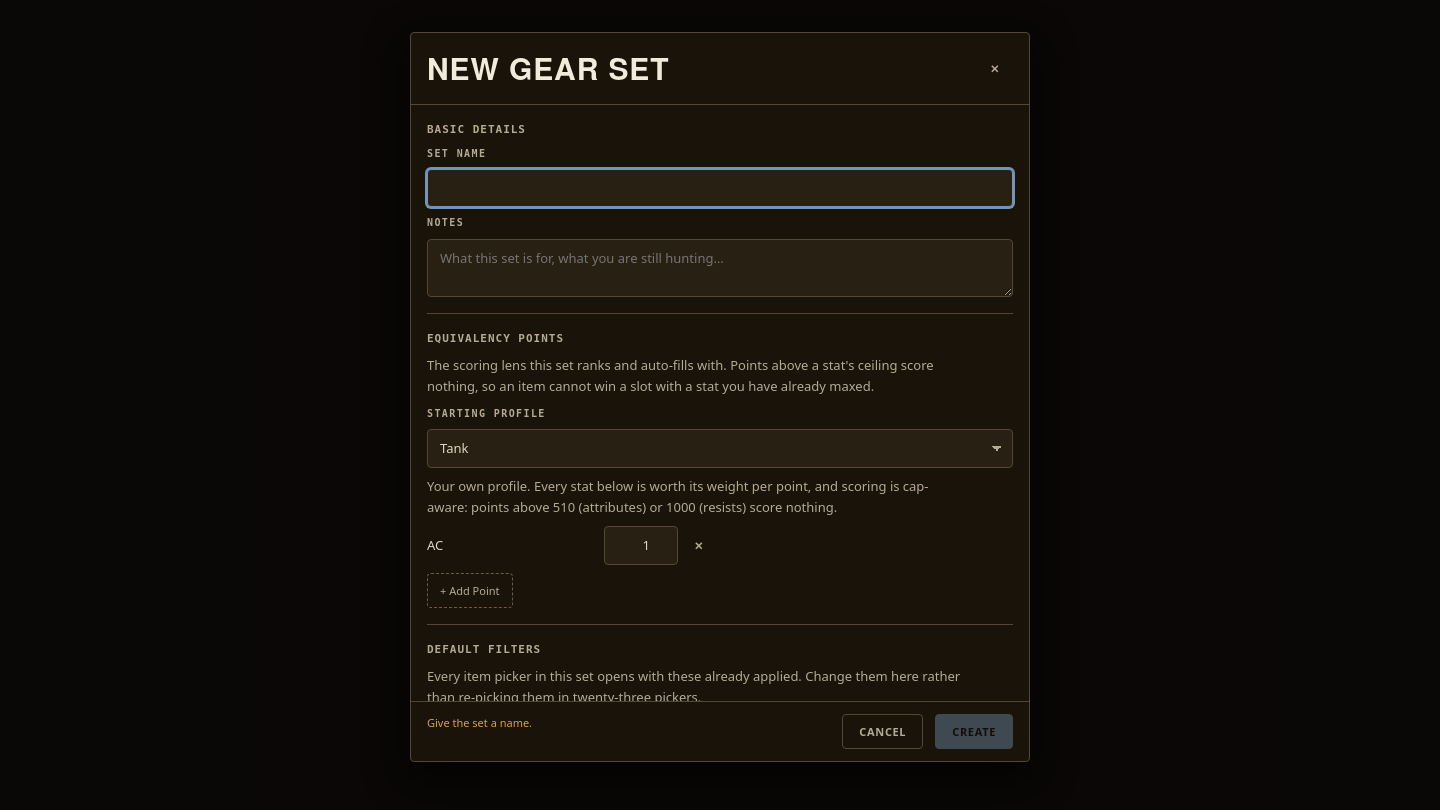
Test: equivalency points › seeds the weights from a preset and shows that preset’s own description
The width and height of the screenshot is (1440, 810).
Step 1. Select "Tank" in the dropdown labelled "Starting profile" → (720, 448), box 427,429 -> 1013,468
Step 2. Select "Tank" in the dropdown labelled "Starting profile" → (720, 448), box 427,429 -> 1013,468
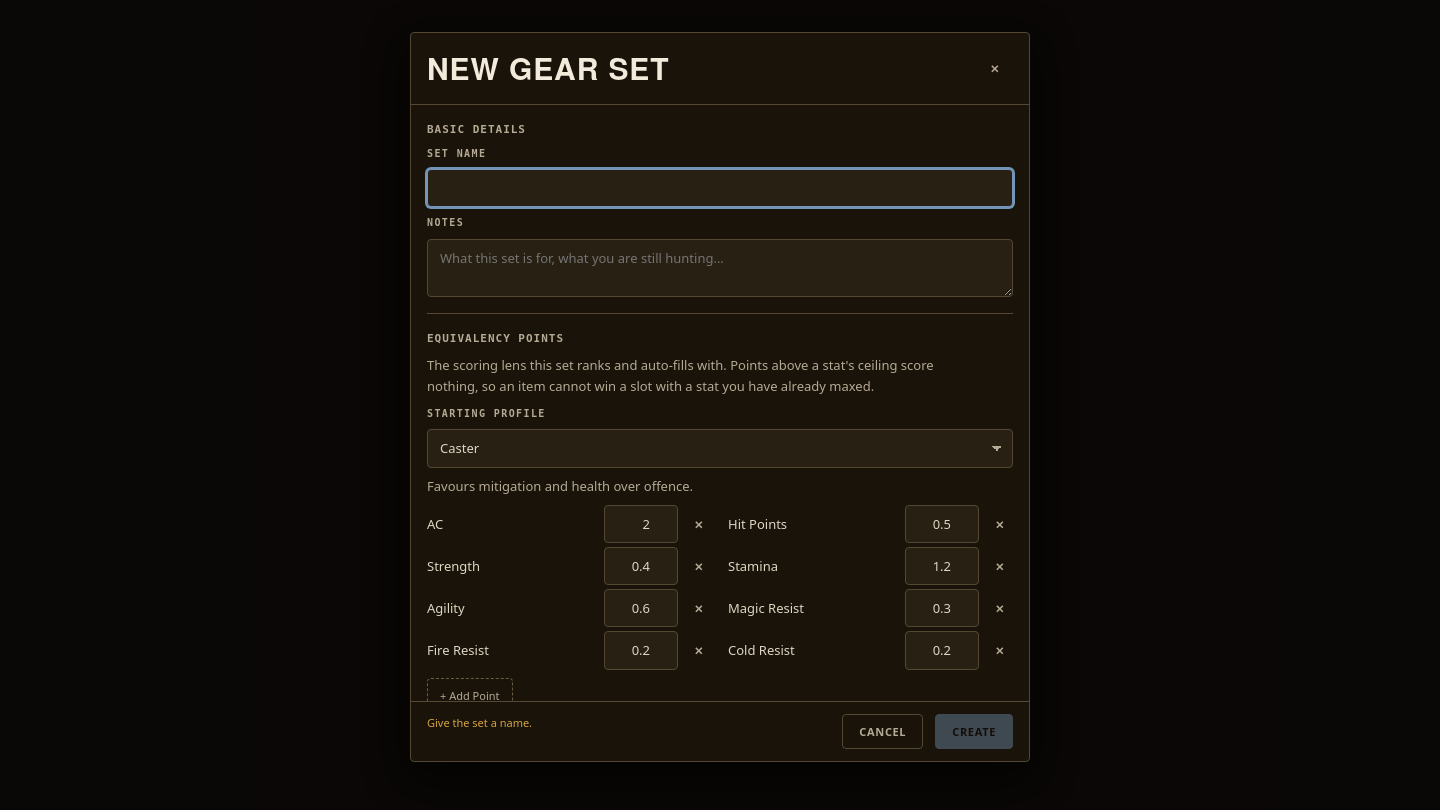
expect the text "Favours mitigation and health over offence." is shown: met, box 427,476 -> 693,494
Step 3. Select "Caster" in the dropdown labelled "Starting profile" → (720, 448), box 427,429 -> 1013,468
Step 4. Select "Caster" in the dropdown labelled "Starting profile" → (720, 448), box 427,429 -> 1013,468
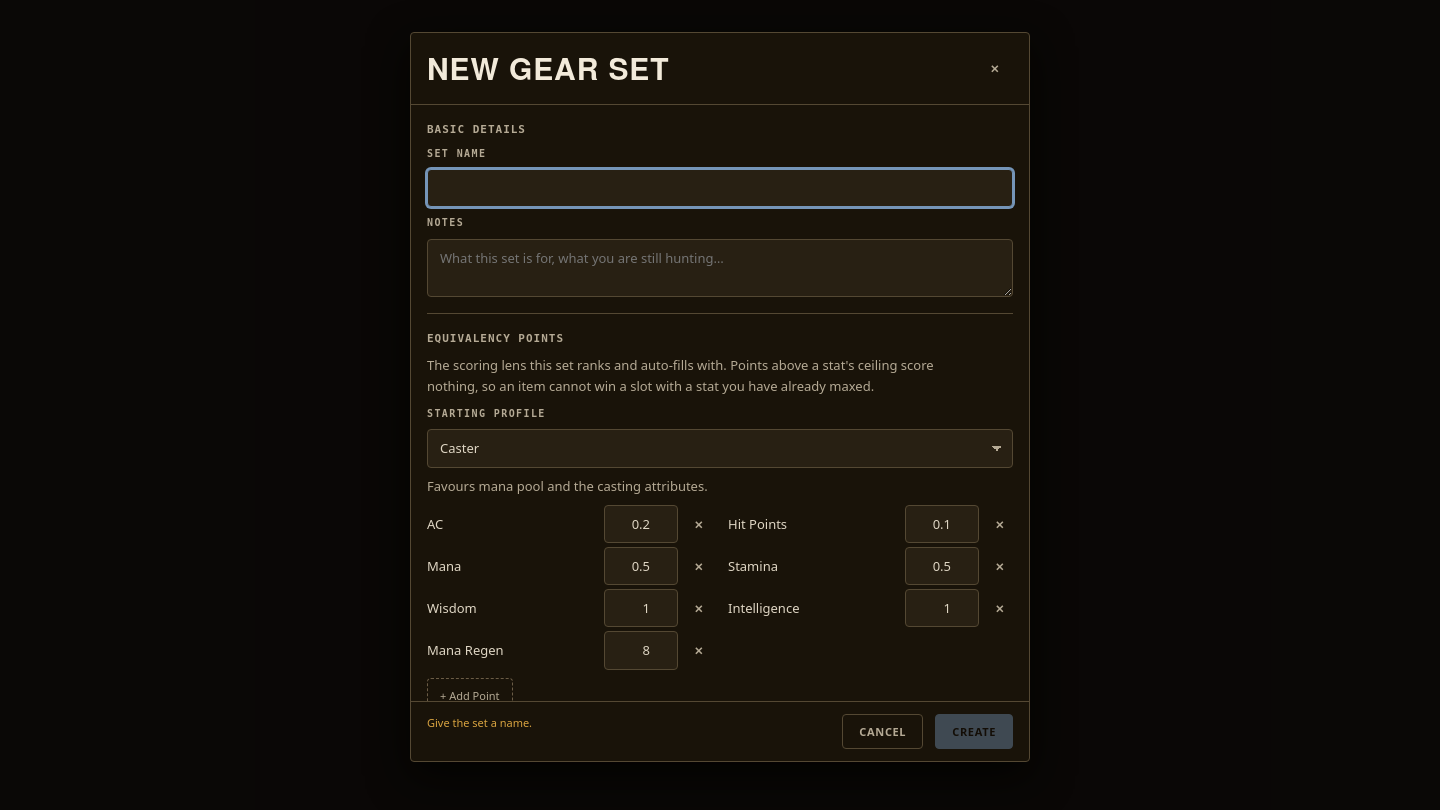
expect the text "Favours mana pool and the casting attributes." is shown: met, box 427,476 -> 708,494
